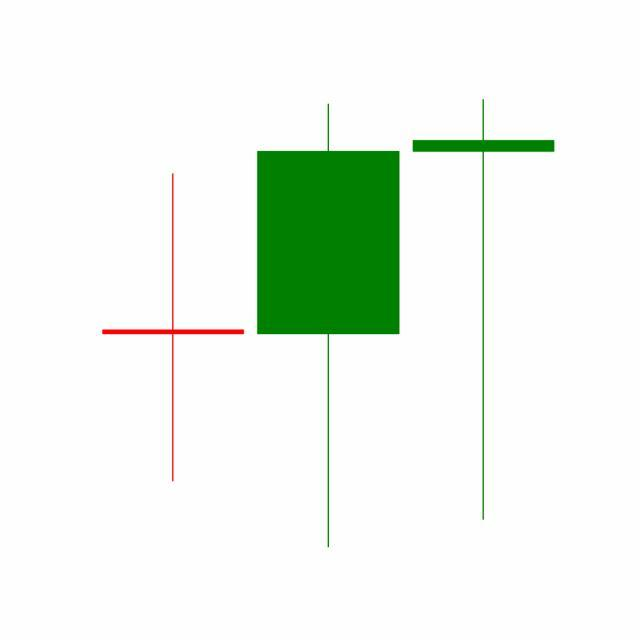Spinning Top: (406, 95, 562, 525)
